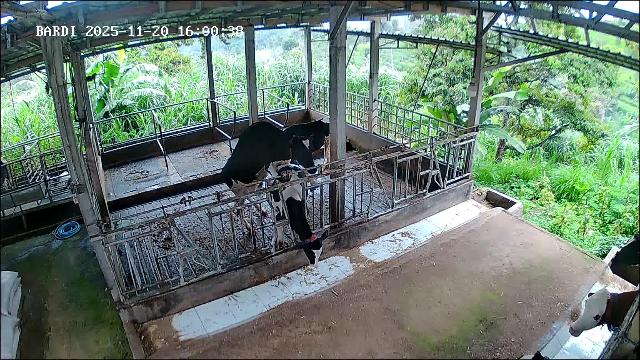mounting: (219, 121, 318, 237)
